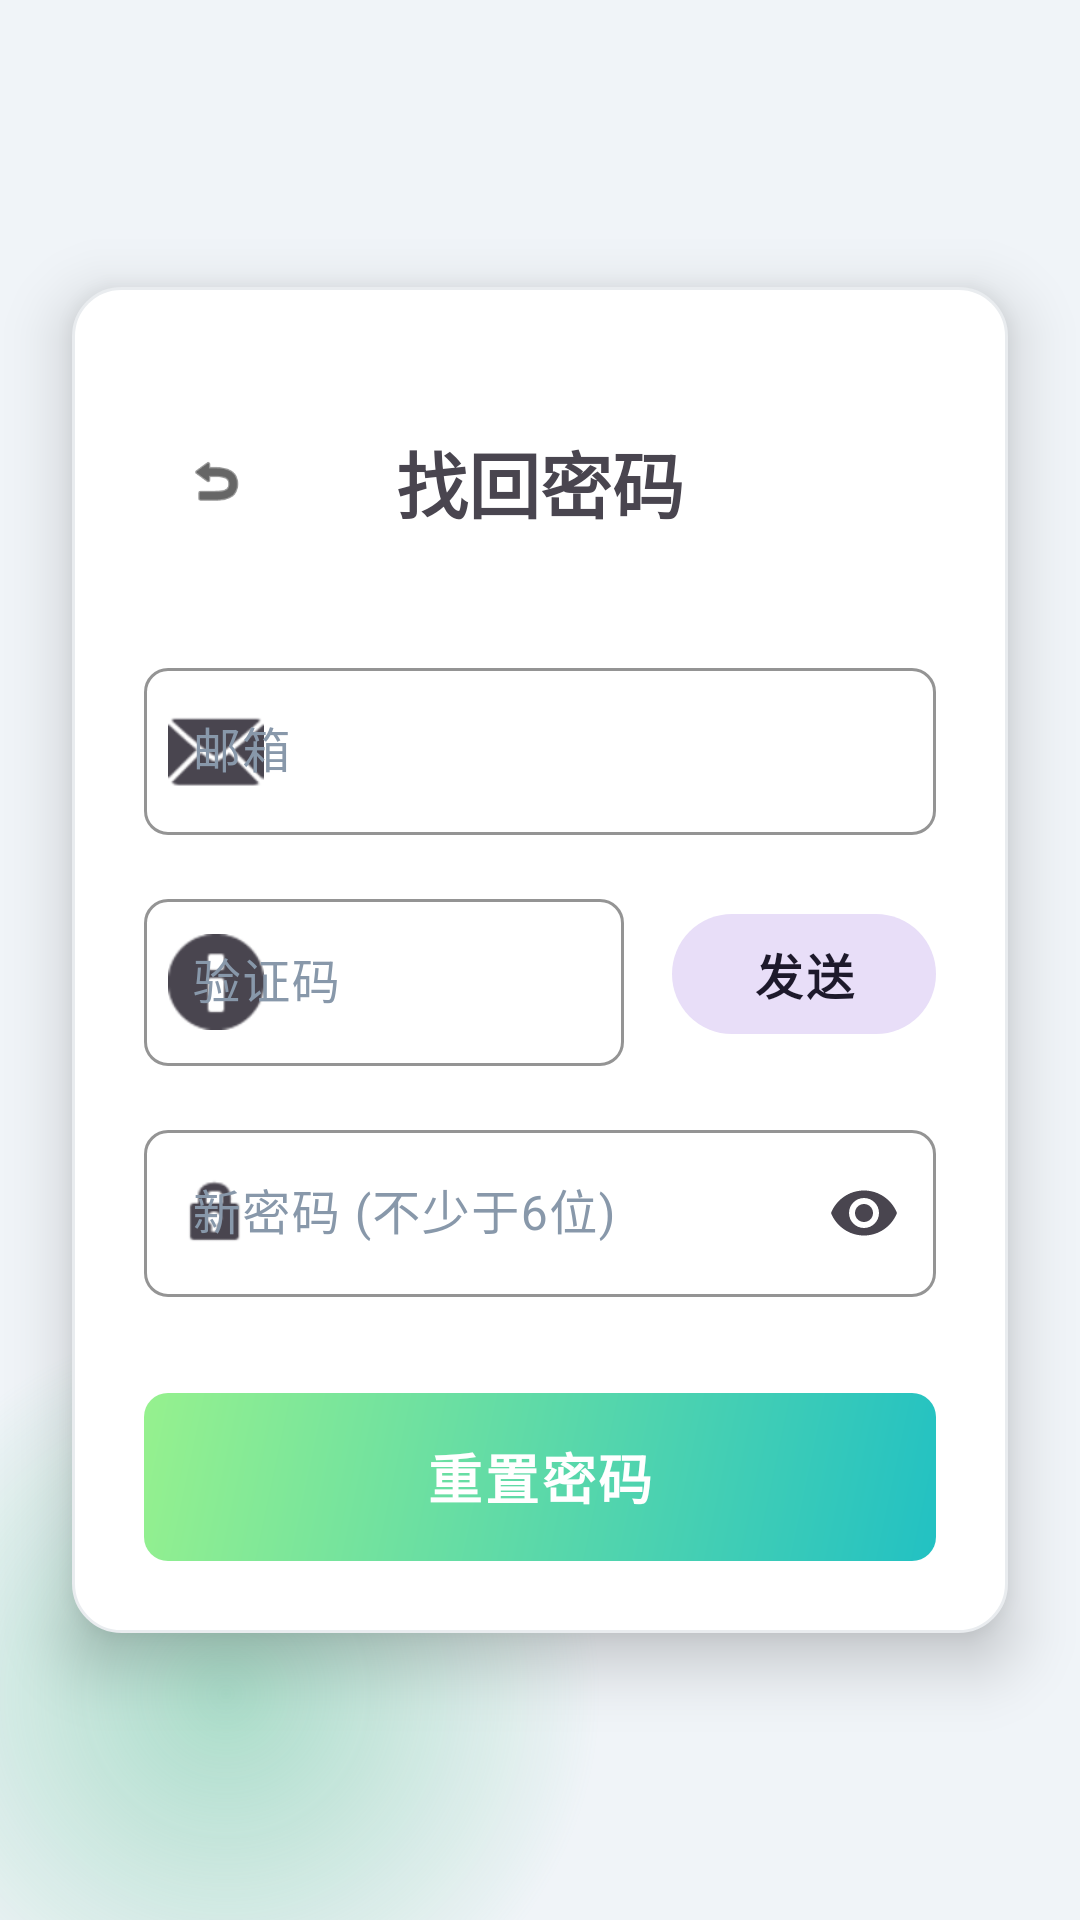

Icon bounding boxes for this 1080 × 1920 phone screenshot, format box(x1, y1, x2, y2):
revert: box(195, 462, 239, 501)
